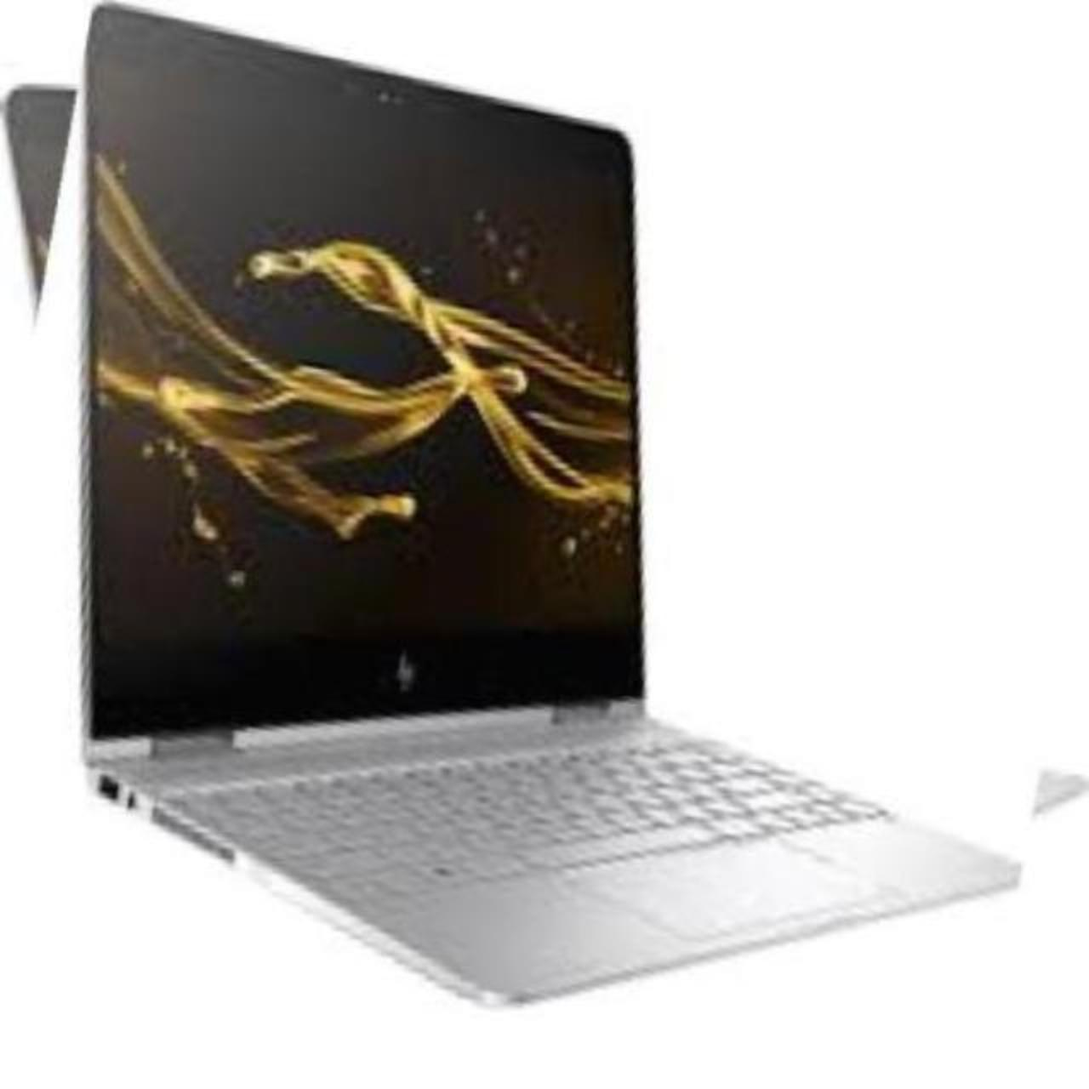laptop: (0, 7, 1089, 1069)
